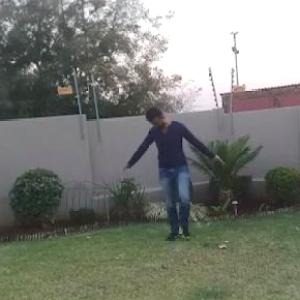land: (111, 98, 219, 255)
